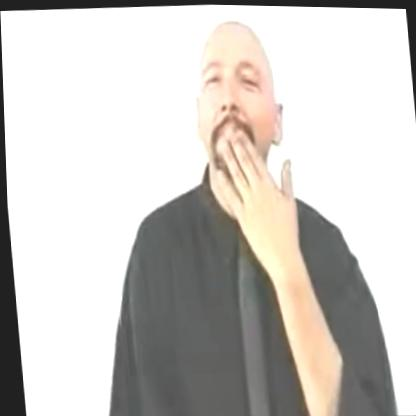ThankYou: (92, 10, 383, 416)
